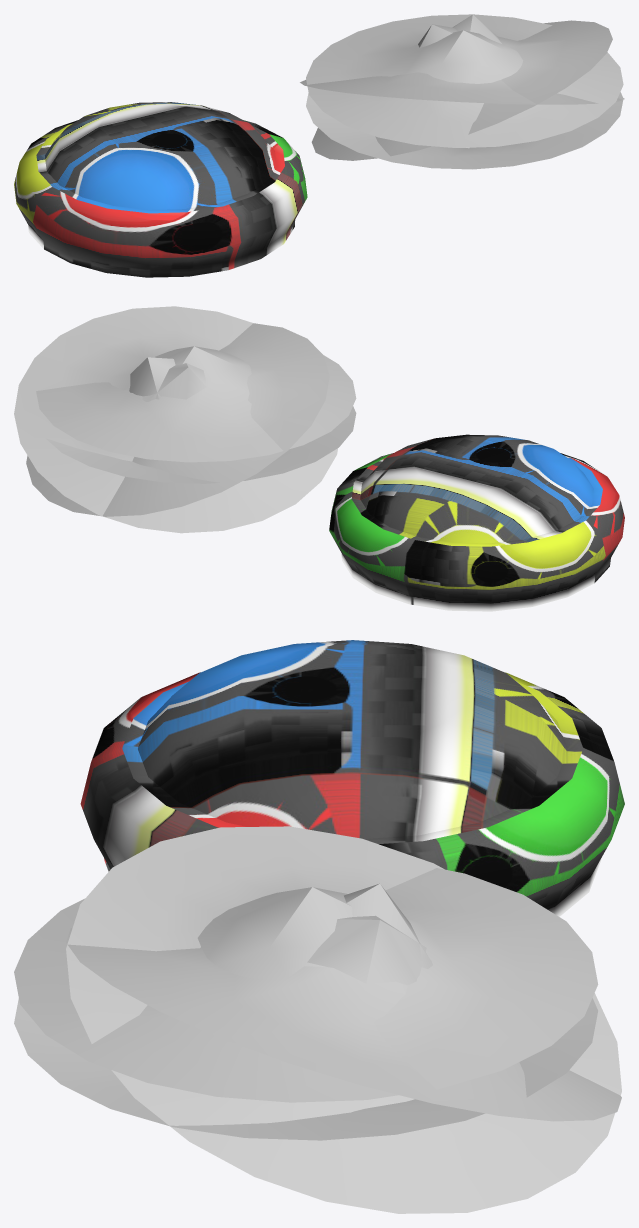
The model's file is instruments.dae.
3 views of the same model, one above another, from view 1: azimuth 30°, elevation 25°; view 2: azimuth 150°, elevation 25°; view 3: azimuth 270°, elevation 25° (orthographic). The views are drawn at different scales.
Visible parts, largest first — view 1: tom, hihat, ride, crash; view 2: tom, ride, hihat, crash; view 3: tom, hihat, crash, ride.
Part boxes in pixels (x1,y1,x2,y2): tom: [14, 102, 307, 277]; hihat: [306, 14, 623, 169]; ride: [311, 20, 612, 160]; crash: [300, 14, 624, 104]; tom: [329, 434, 624, 611]; ride: [14, 306, 337, 533]; hihat: [36, 346, 356, 483]; crash: [26, 323, 329, 516]; tom: [80, 640, 624, 916]; hihat: [14, 868, 598, 1140]; crash: [66, 826, 621, 1213]; ride: [66, 883, 621, 1121].
Size of the model in its own units: 1.33 by 0.2882 by 0.6784.
